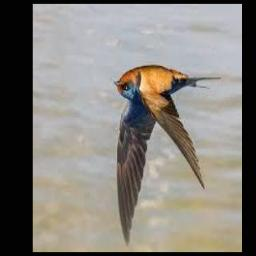Swallow: (113, 66, 221, 246)
